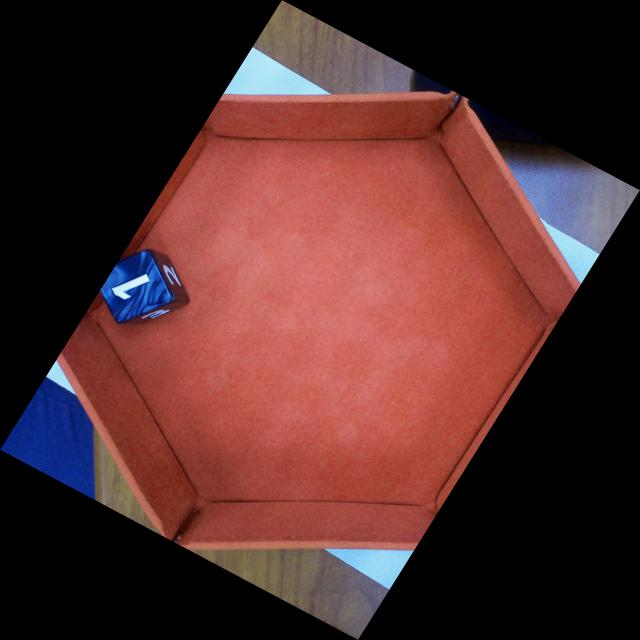dice: (87, 245, 179, 325)
